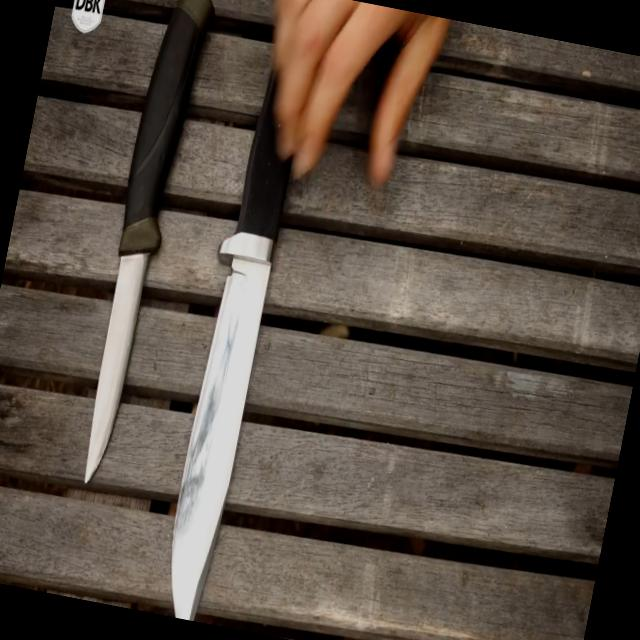knife: (135, 59, 352, 630), (57, 205, 172, 506)
